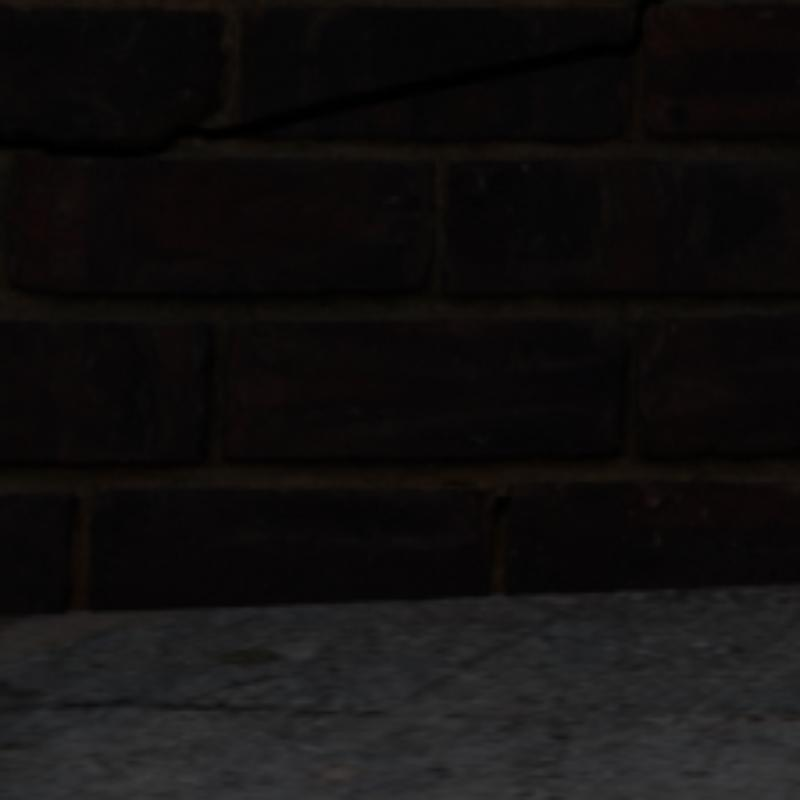crack: (0, 0, 657, 157)
